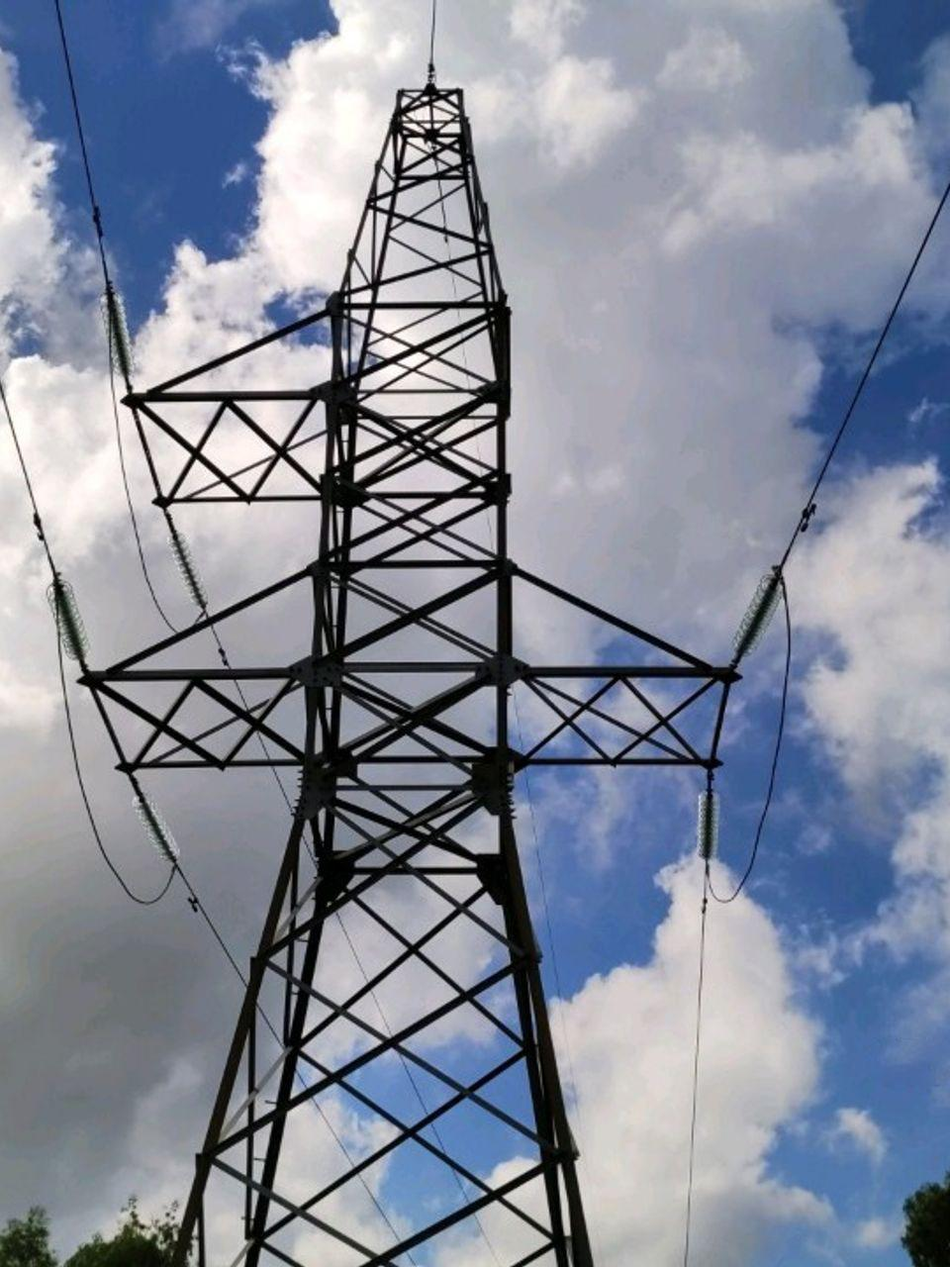tower: (81, 57, 747, 1267)
